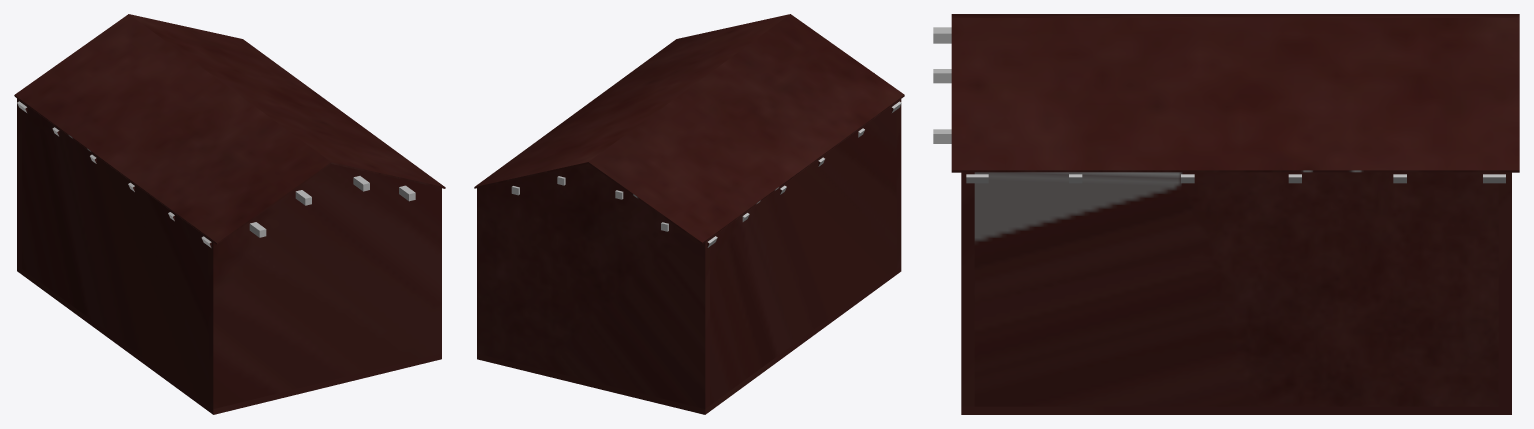
Rendered from structure_substance.gltf.
3 renders of one model, left to right at view 1: azimuth 30°, elevation 25°; view 2: azimuth 150°, elevation 25°; view 3: azimuth 270°, elevation 25°, orthographic. The views are drawn at different scales.
Visible parts, largest first — view 1: structure; view 2: structure; view 3: structure.
Part boxes in pixels (x1,y1,x2,y2): structure: (14, 14, 445, 414); structure: (474, 14, 904, 414); structure: (933, 14, 1519, 414).
Bounding box in the file's own units: 4.18 × 3.9 × 6.49.
